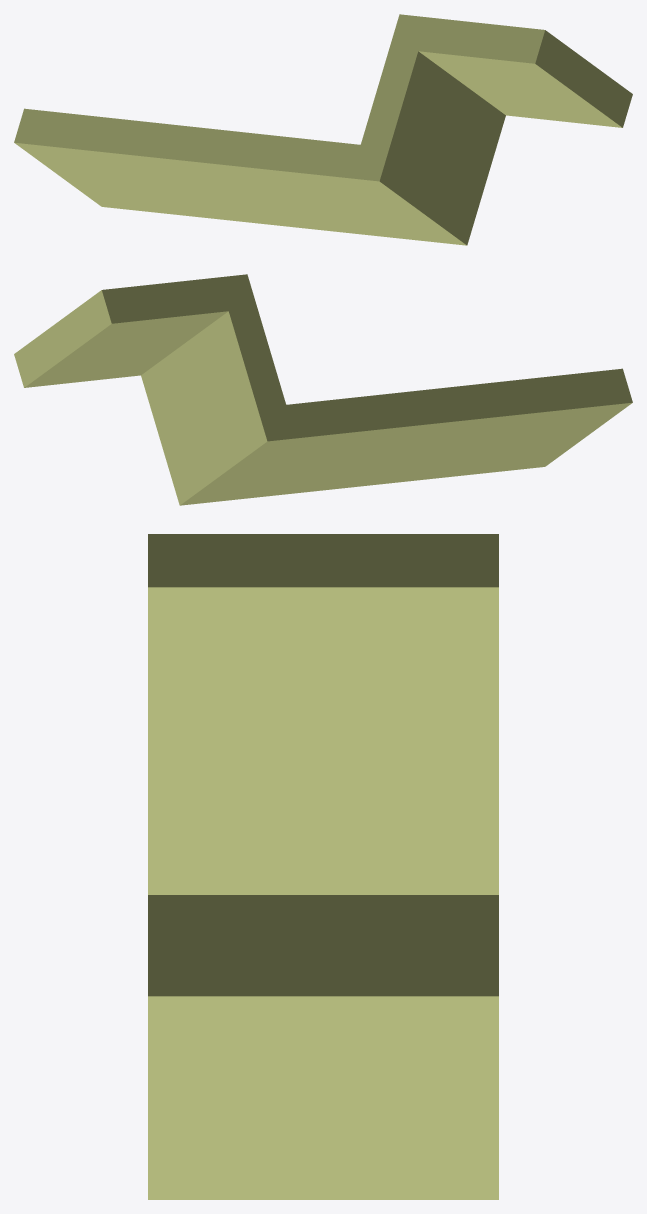
3 renders of one model, top to bottom at view 1: azimuth 30°, elevation 25°; view 2: azimuth 150°, elevation 25°; view 3: azimuth 270°, elevation 25°, orthographic. The views are drawn at different scales.
Visible parts, largest first — view 1: 0_2_1_3_0_3_1_3_1_0; view 2: 0_2_1_3_0_3_1_3_1_0; view 3: 0_2_1_3_0_3_1_3_1_0.
Part boxes in pixels (x1,y1,x2,y2): 0_2_1_3_0_3_1_3_1_0: [14, 14, 632, 245]; 0_2_1_3_0_3_1_3_1_0: [14, 274, 632, 505]; 0_2_1_3_0_3_1_3_1_0: [148, 534, 498, 1199].
Size of the model in its own units: 20.98 by 6.12 by 6.
